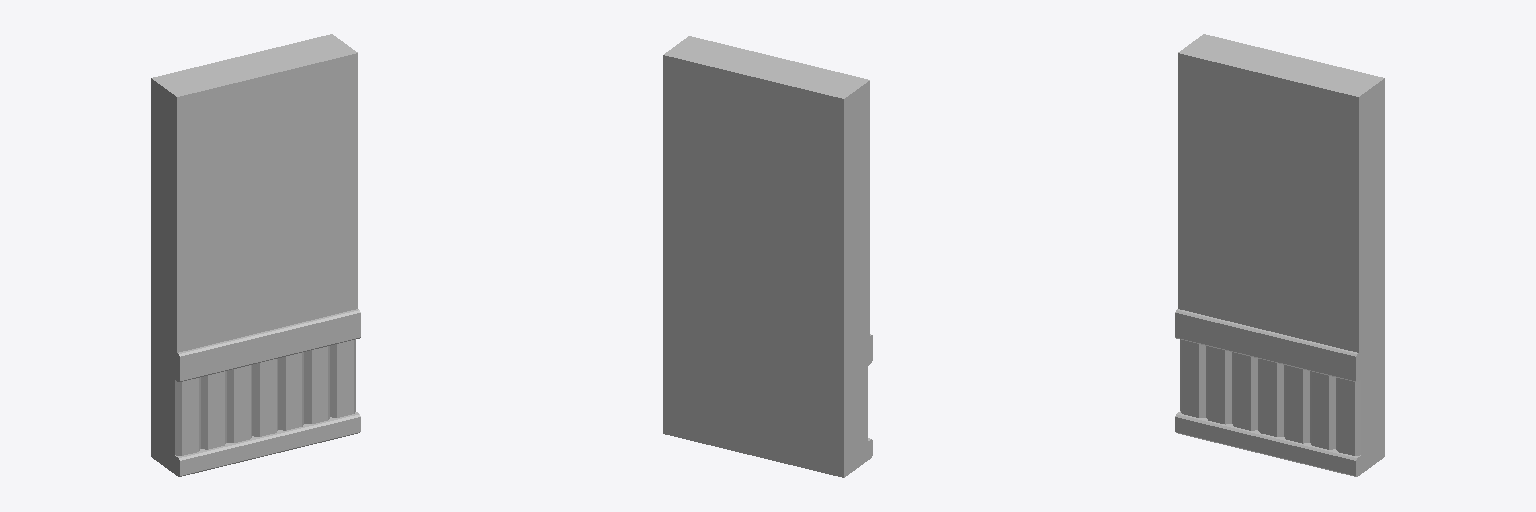
Rendered from wall_panelled_bakery_straight.obj.
The picture shows the model from 3 angles: view 1: azimuth 30°, elevation 25°; view 2: azimuth 150°, elevation 25°; view 3: azimuth 330°, elevation 25°; orthographic projection.
Parts seen in each view (by area): view 1: wall_panelled_bakery_straight; view 2: wall_panelled_bakery_straight; view 3: wall_panelled_bakery_straight.
Part boxes in pixels (x1,y1,x2,y2): wall_panelled_bakery_straight: (151,34,360,476); wall_panelled_bakery_straight: (663,36,872,477); wall_panelled_bakery_straight: (1175,34,1384,476).
Size of the model in its own units: 2 by 4 by 0.55.